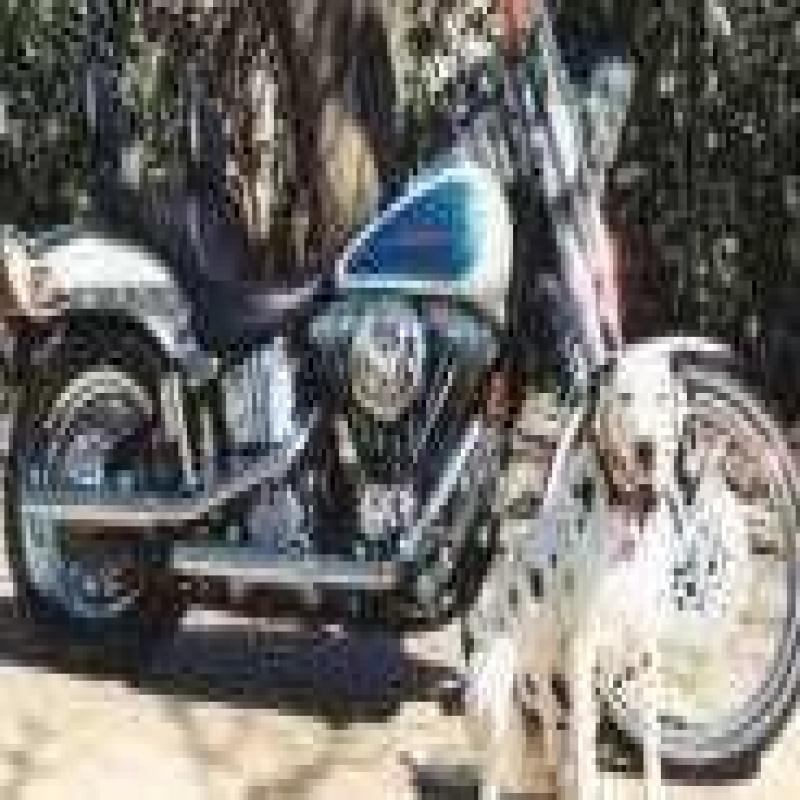bike: (20, 32, 800, 768)
